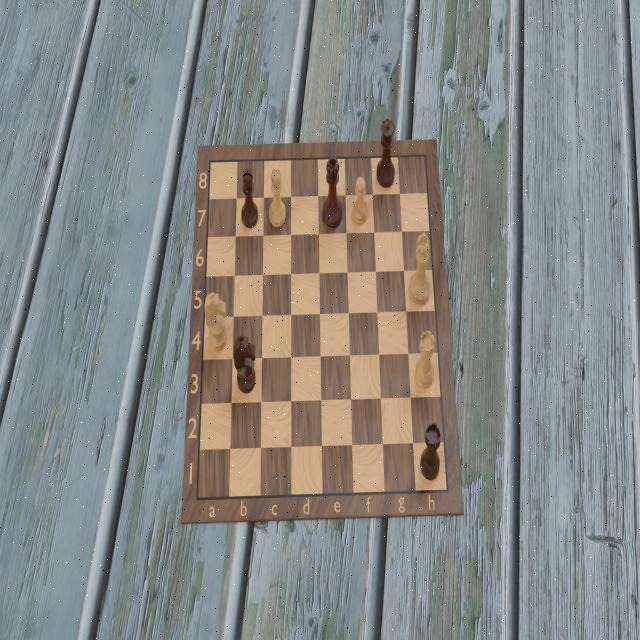black-bishop: (241, 166, 259, 229)
black-king: (321, 155, 343, 229)
black-knight: (232, 335, 256, 393)
black-queen: (376, 116, 396, 188)
black-rook: (419, 421, 441, 481)
white-bishop: (267, 166, 286, 229)
white-king: (408, 230, 431, 306)
white-knight: (204, 289, 228, 351)
white-pawn: (351, 174, 369, 225)
white-rook: (414, 328, 435, 389)
